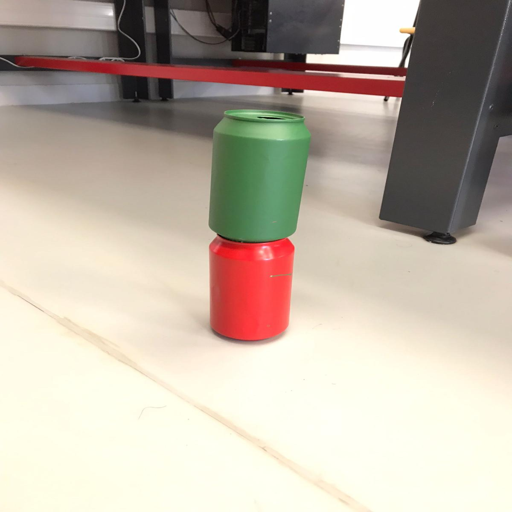Green_Can: (207, 107, 313, 242)
Red_Can: (206, 236, 295, 343)
